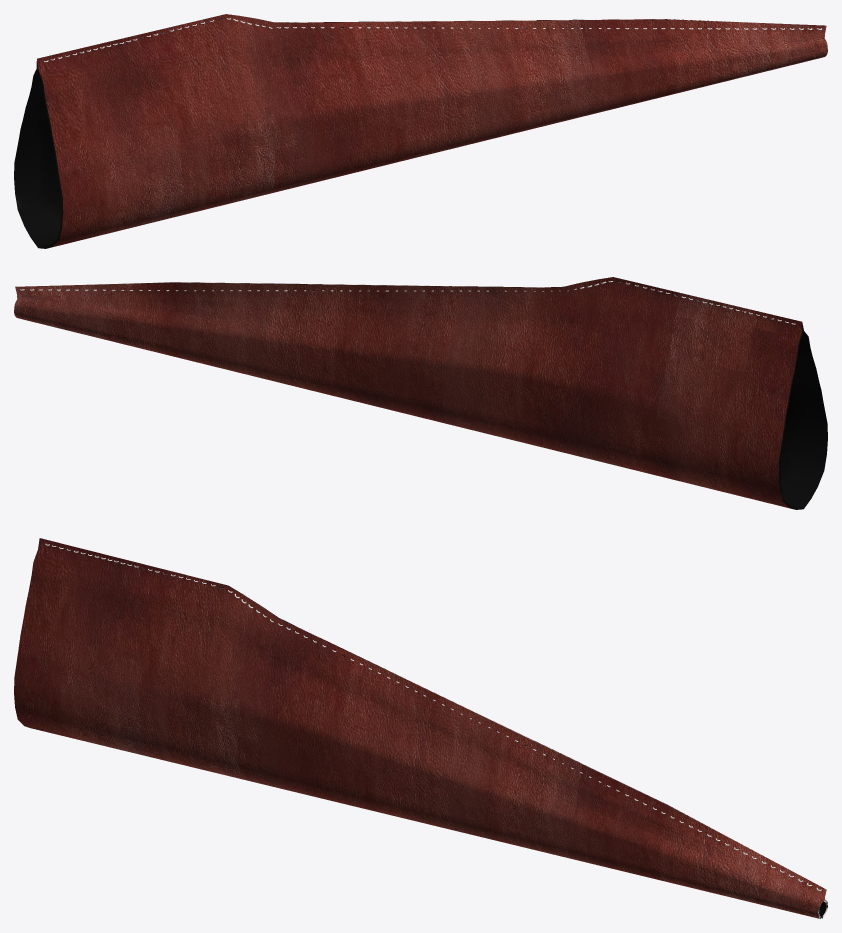
File: Rifle-Holster.fbx
The picture shows the model from 3 angles, top to bottom: view 1: azimuth 30°, elevation 25°; view 2: azimuth 150°, elevation 25°; view 3: azimuth 330°, elevation 25°; orthographic projection.
Parts seen in each view (by area): view 1: Torus.090; view 2: Torus.090; view 3: Torus.090.
Boxes of the visible parts, bbox=[...] form: Torus.090: bbox=[14, 14, 827, 248]; Torus.090: bbox=[14, 277, 827, 509]; Torus.090: bbox=[14, 538, 827, 918].
Bounding box in the file's own units: 402 × 91.94 × 43.49.
1 material, 1 textured.
